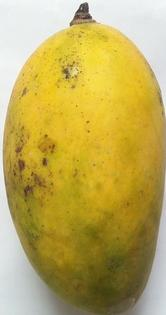Ripe: (1, 1, 166, 315)
